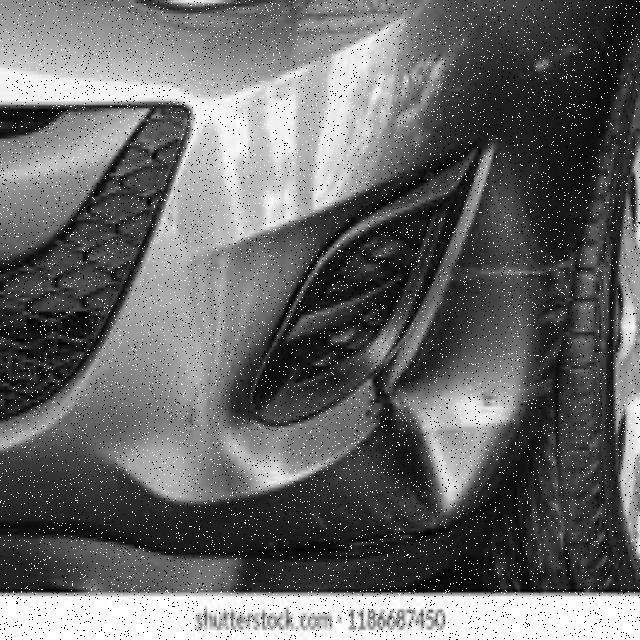front-bumper-dent: (1, 115, 638, 555)
